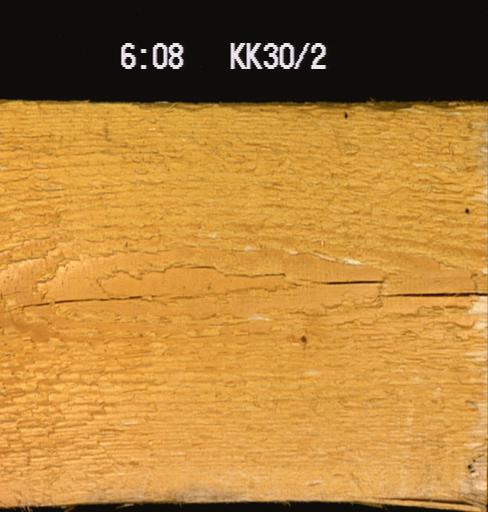split: (24, 294, 143, 307), (390, 287, 487, 298), (380, 493, 469, 502), (309, 279, 383, 284)
